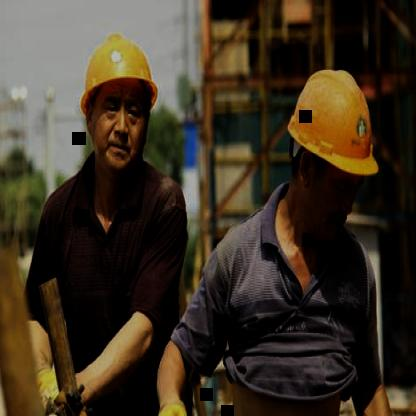helmet: (273, 49, 386, 256), (70, 12, 168, 185)
